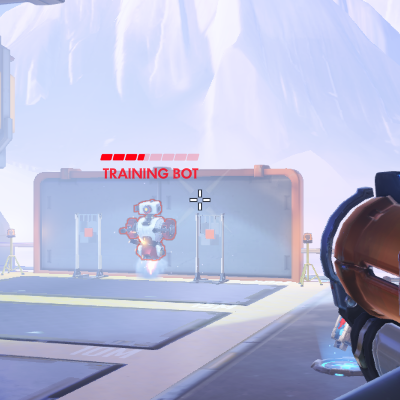hpbar: (100, 153, 200, 161)
